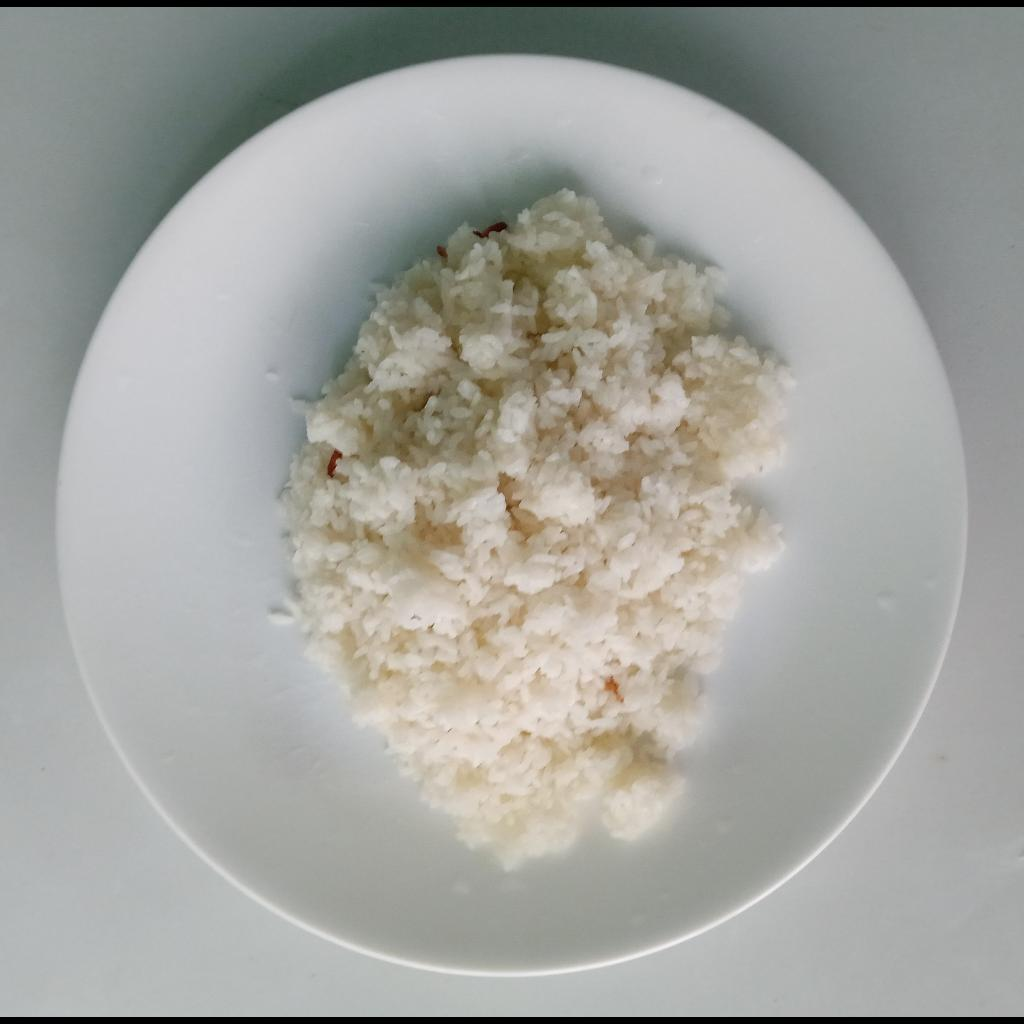rice: (278, 185, 796, 870)
